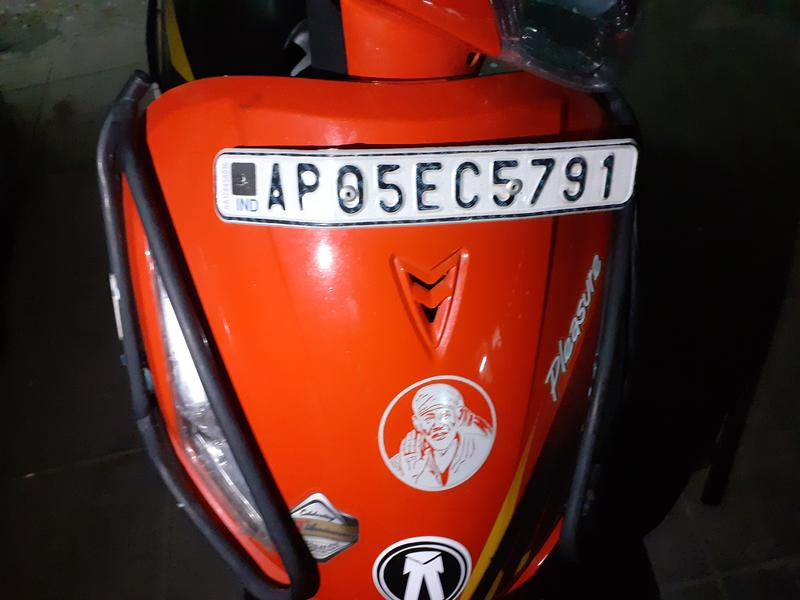numberplate: (213, 148, 665, 234)
